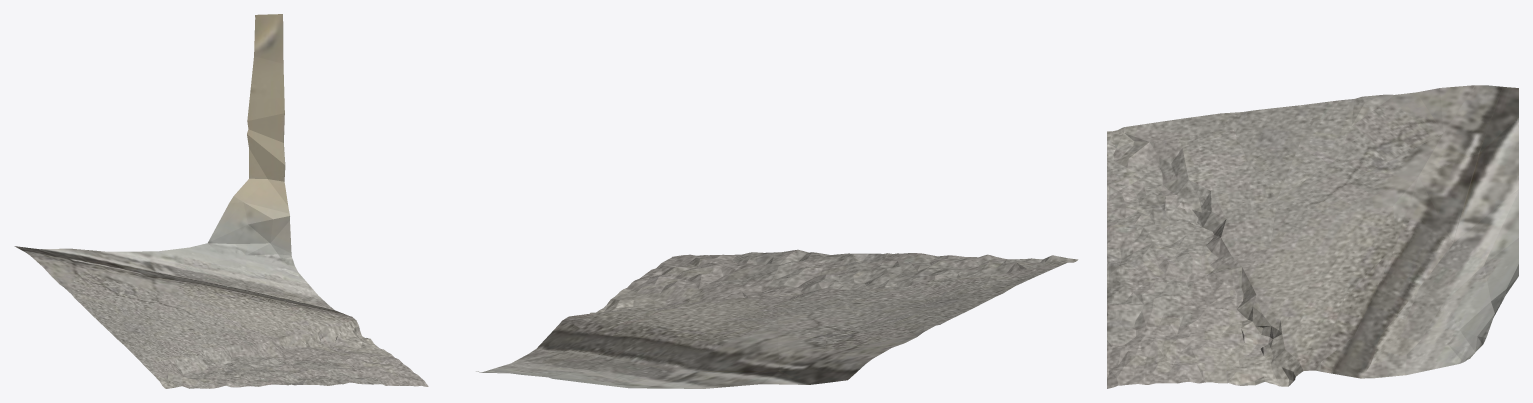
3 views of the same model, side by side, from view 1: azimuth 30°, elevation 25°; view 2: azimuth 150°, elevation 25°; view 3: azimuth 270°, elevation 25° (orthographic). The views are drawn at different scales.
Bounding box in the file's own units: 1.67 × 1.62 × 1.67.
3 materials, 3 textured.
